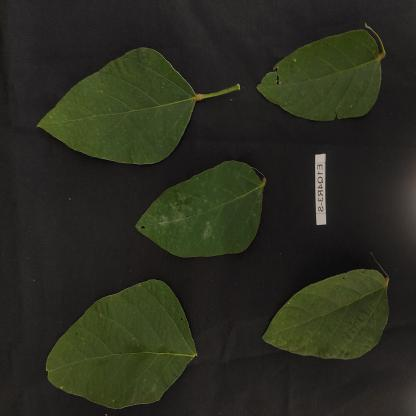label: (308, 154, 332, 240)
leaflets: (37, 272, 205, 412), (32, 34, 206, 167), (250, 263, 408, 371), (130, 154, 272, 266), (252, 16, 395, 124)
